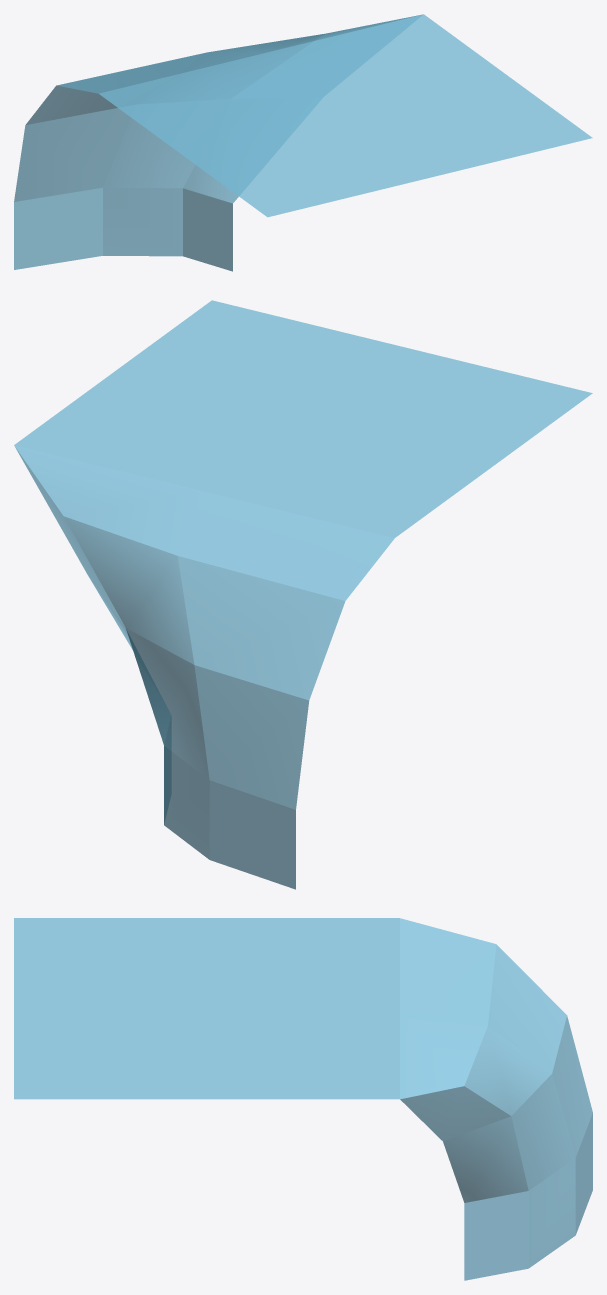
The model's file is Cliff_Terrain_Waterfall_Water_Top_Edge.glb.
3 views of the same model, one above another, from view 1: azimuth 30°, elevation 25°; view 2: azimuth 150°, elevation 25°; view 3: azimuth 270°, elevation 25° (orthographic). The views are drawn at different scales.
Parts seen in each view (by area): view 1: Cliff_Terrain_Waterfall_Water_Top_Edge; view 2: Cliff_Terrain_Waterfall_Water_Top_Edge; view 3: Cliff_Terrain_Waterfall_Water_Top_Edge.
Part boxes in pixels (x1,y1,x2,y2): Cliff_Terrain_Waterfall_Water_Top_Edge: (14,14,592,271); Cliff_Terrain_Waterfall_Water_Top_Edge: (14,300,592,889); Cliff_Terrain_Waterfall_Water_Top_Edge: (14,918,592,1280).
Bounding box in the file's own units: 1 × 0.7 × 1.35.
